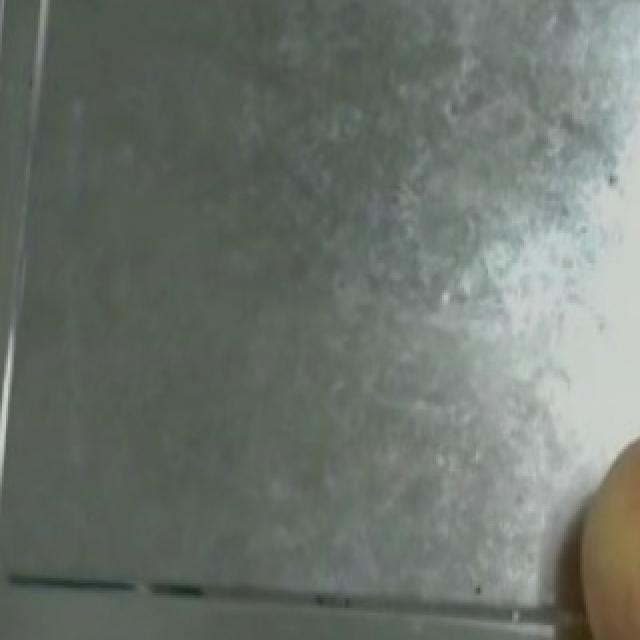Fruit: (554, 419, 640, 640)
